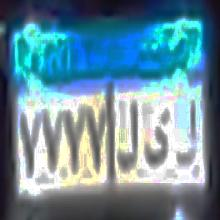7: (87, 109, 109, 171), (42, 113, 64, 169), (64, 111, 86, 165), (20, 113, 41, 169)
laam: (177, 95, 199, 172), (117, 101, 138, 171)
yaa: (143, 105, 171, 175)
